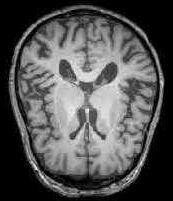Normal_Brain: (9, 1, 173, 201)
